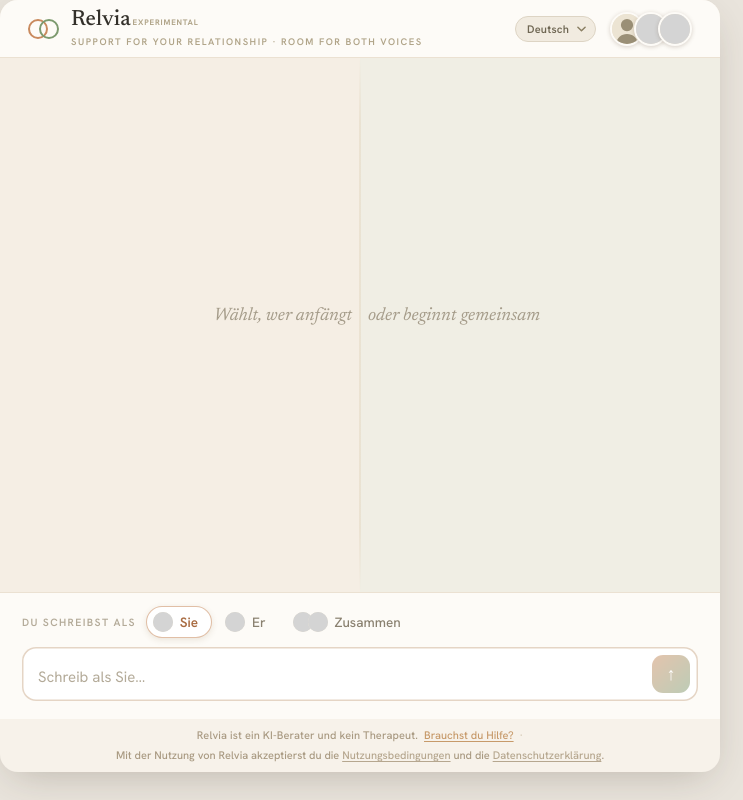
Test: SafetyFooter — komunikaty bezpieczeństwa w trzech językach › de: rozwija pełny komunikat z numerami
Click the button "Brauchst du Hilfe?" at (469, 735), box [424,728,514,742]
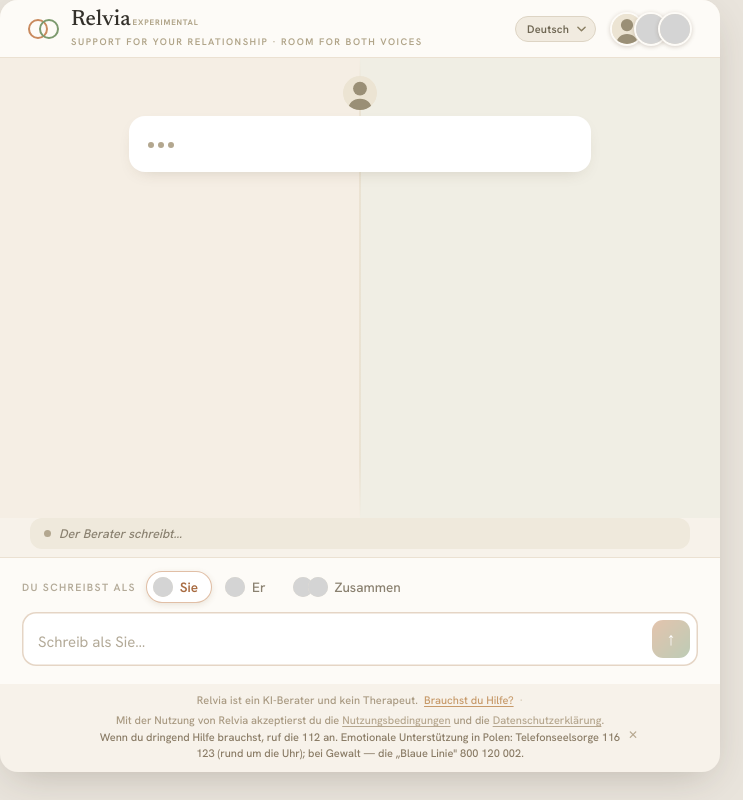
Now the element with class "safety-footer-full" shows "112", box [100,730,620,760]
Now the element with class "safety-footer-full" shows "116 123", box [100,730,620,760]
Now the element with class "safety-footer-full" shows "800 120 002", box [100,730,620,760]
